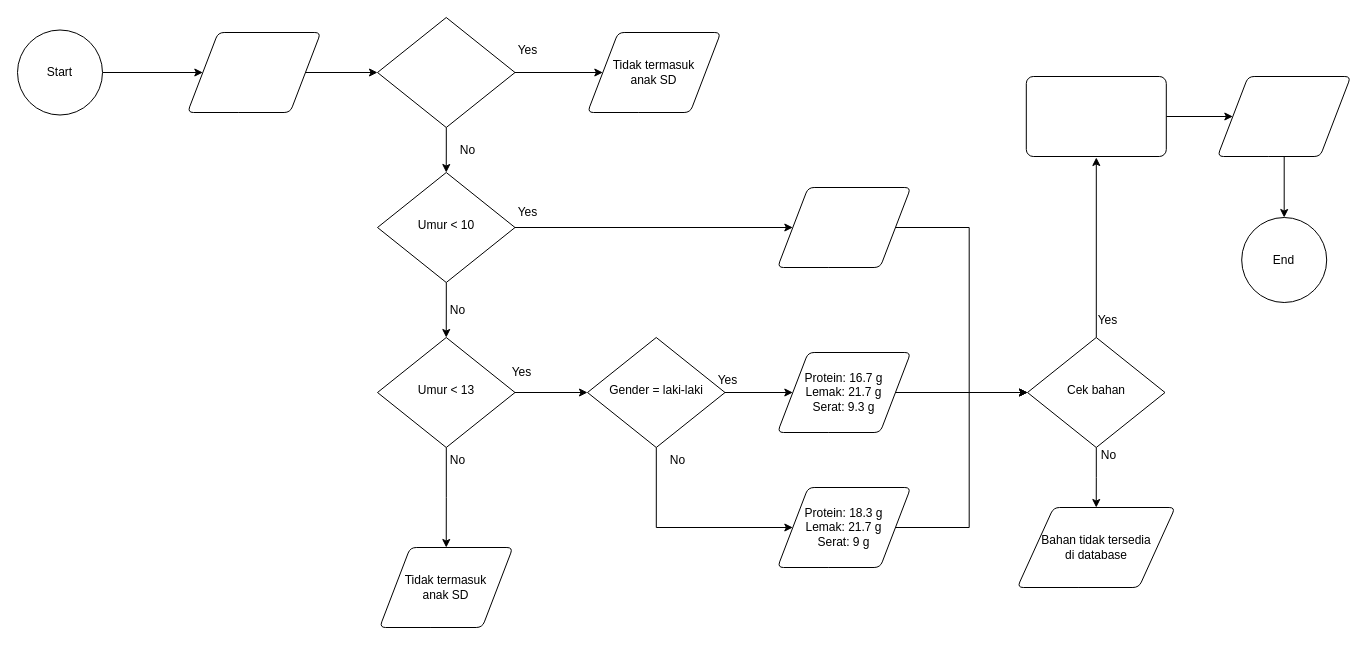
Some shapes in this 1369 by 645 pixel diagram are drawn without their labels. Here are the shapes that lost their labels. From the top down, the centre of each, then its label:
At (x=253, y=72): "Usia,gender, list bahan".
At (x=445, y=72): "Umur < 7".
At (x=1095, y=116): "KKN".
At (x=1283, y=116): "List rekomendasi makanan".
At (x=843, y=227): "Protein: 13.3 g Lemak: 18.3 g Serat: 7.8 g".
